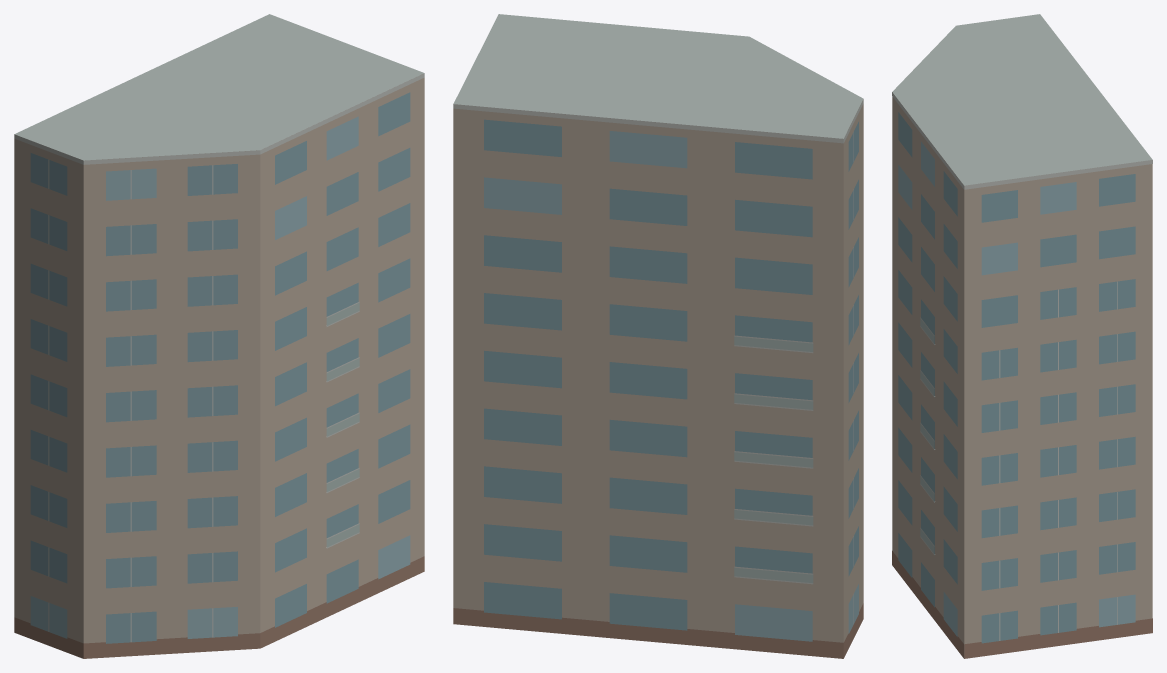
Rendered from survey-upis-32560924.glb.
3 renders of one model, left to right at view 1: azimuth 30°, elevation 25°; view 2: azimuth 150°, elevation 25°; view 3: azimuth 270°, elevation 25°, orthographic. The views are drawn at different scales.
Visible parts, largest first — view 1: survey-upis-32560924.tmp; view 2: survey-upis-32560924.tmp; view 3: survey-upis-32560924.tmp.
Part boxes in pixels (box(x1,y1,x2,y2)): survey-upis-32560924.tmp: box(14, 14, 424, 658); survey-upis-32560924.tmp: box(453, 14, 863, 658); survey-upis-32560924.tmp: box(892, 14, 1152, 658).
Size of the model in its own units: 21.87 by 28.1 by 14.04.
